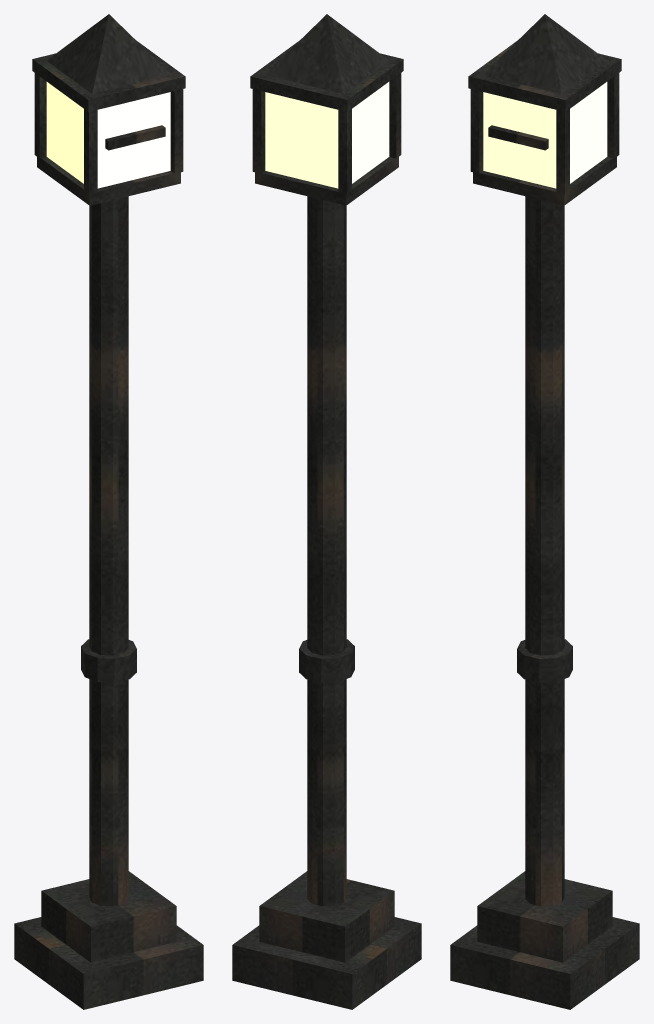
Rendered from prp_lamppost_a_LOD0.glb.
3 renders of one model, left to right at view 1: azimuth 30°, elevation 25°; view 2: azimuth 150°, elevation 25°; view 3: azimuth 330°, elevation 25°, orthographic.
Parts seen in each view (by area): view 1: prp_lamppost_a_iron, prp_lamppost_a_lantern_glass_emissive, prp_lamppost_a_iron_cap; view 2: prp_lamppost_a_iron, prp_lamppost_a_lantern_glass_emissive, prp_lamppost_a_iron_cap; view 3: prp_lamppost_a_iron, prp_lamppost_a_lantern_glass_emissive, prp_lamppost_a_iron_cap.
Part boxes in pixels (x1=…): prp_lamppost_a_iron: x1=14, y1=41, x2=203, y2=1009; prp_lamppost_a_lantern_glass_emissive: x1=46, y1=82, x2=170, y2=188; prp_lamppost_a_iron_cap: x1=46, y1=14, x2=171, y2=93; prp_lamppost_a_iron: x1=232, y1=41, x2=421, y2=1009; prp_lamppost_a_lantern_glass_emissive: x1=265, y1=82, x2=389, y2=188; prp_lamppost_a_iron_cap: x1=264, y1=14, x2=389, y2=93; prp_lamppost_a_iron: x1=450, y1=41, x2=639, y2=1009; prp_lamppost_a_lantern_glass_emissive: x1=483, y1=82, x2=607, y2=188; prp_lamppost_a_iron_cap: x1=482, y1=14, x2=607, y2=93.
Bounding box in the file's own units: 0.42 × 3.2 × 0.42.
3 materials, 2 textured.
